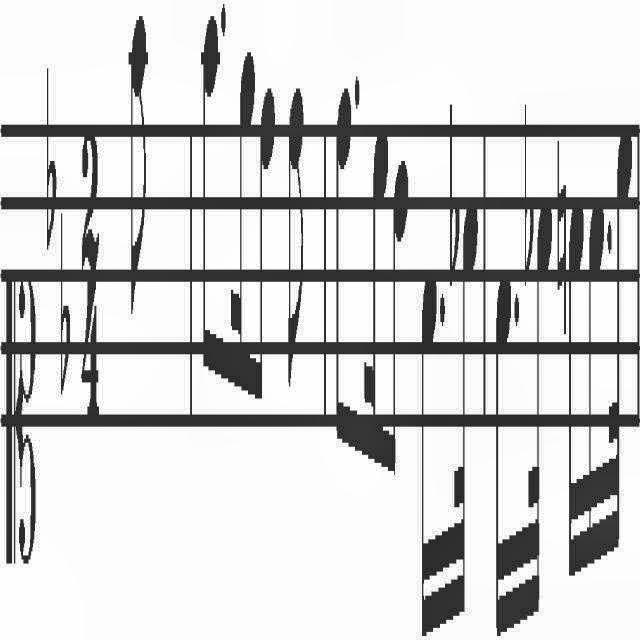Bemol: (46, 60, 58, 254), (448, 103, 460, 290), (524, 94, 534, 296), (60, 205, 70, 398)
Eighth-note: (254, 76, 276, 408), (335, 83, 353, 460), (201, 6, 219, 378), (390, 157, 410, 491), (130, 10, 146, 324), (288, 86, 304, 398)
Sixteenth-note: (363, 117, 389, 465), (230, 41, 254, 399), (586, 194, 606, 606), (494, 270, 512, 630), (568, 192, 584, 592), (421, 267, 437, 640)
